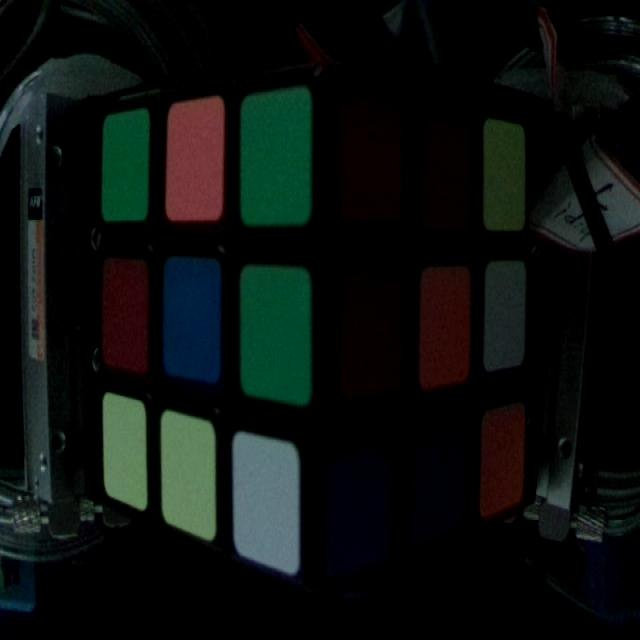b: (163, 260, 221, 381), (402, 438, 457, 542), (331, 456, 383, 563)
g: (244, 275, 313, 400), (244, 99, 310, 221), (102, 112, 146, 216)
o: (169, 107, 223, 216), (423, 267, 472, 381), (482, 408, 520, 503)
r: (345, 267, 398, 388), (343, 107, 397, 212), (426, 121, 472, 223), (105, 260, 145, 368)
w: (234, 438, 301, 566), (485, 260, 524, 367)
y: (162, 419, 214, 533), (103, 397, 148, 504), (484, 117, 522, 231)
